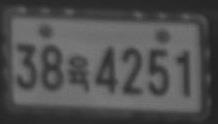1: (174, 51, 197, 97)
2: (121, 47, 142, 95)
3: (15, 43, 37, 89)
4: (94, 46, 119, 94)
5: (147, 49, 170, 97)
8: (41, 44, 64, 91)
육: (66, 55, 90, 93)
